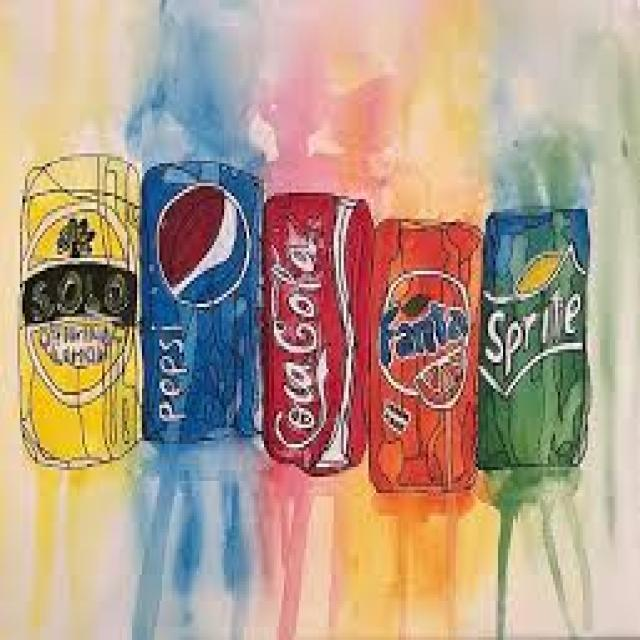Cans: (12, 157, 144, 457)
